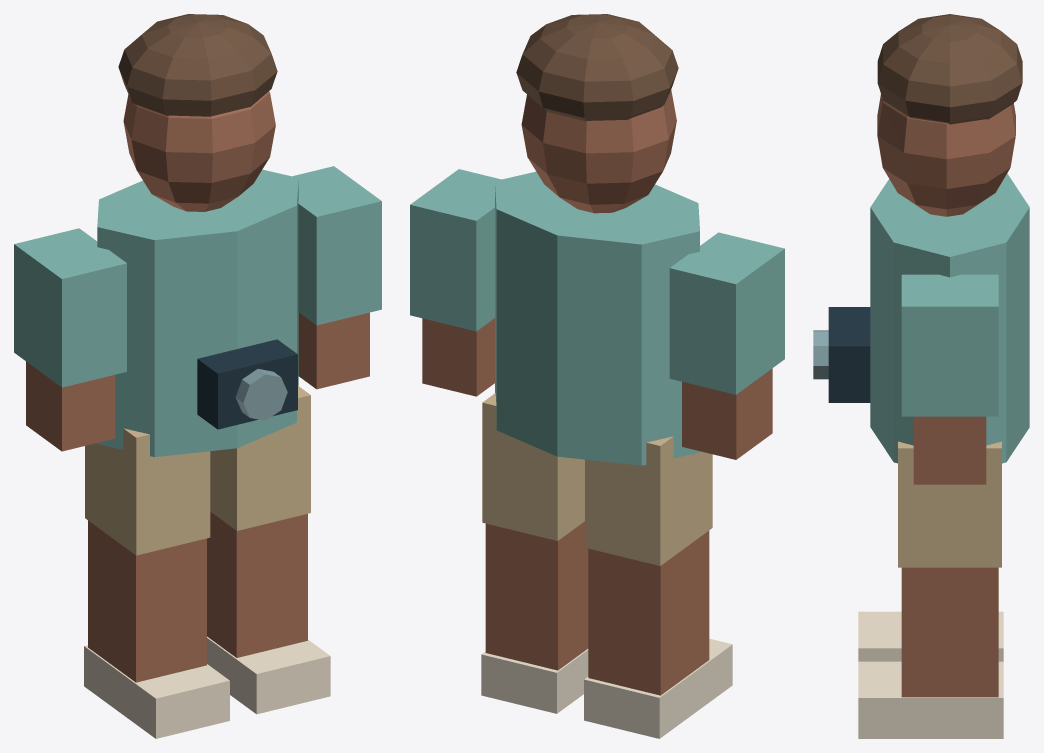
Rendered from character-vacationer.obj.
The picture shows the model from 3 angles, left to right: view 1: azimuth 30°, elevation 25°; view 2: azimuth 150°, elevation 25°; view 3: azimuth 270°, elevation 25°; orthographic projection.
Visible parts, largest first — view 1: character-vacationer; view 2: character-vacationer; view 3: character-vacationer.
Boxes of the visible parts, x1,y1,x2,y2 form: character-vacationer: [14, 14, 381, 738]; character-vacationer: [410, 14, 784, 738]; character-vacationer: [813, 14, 1029, 738].
Bounding box in the file's own units: 1.08 × 2.14 × 0.625.
